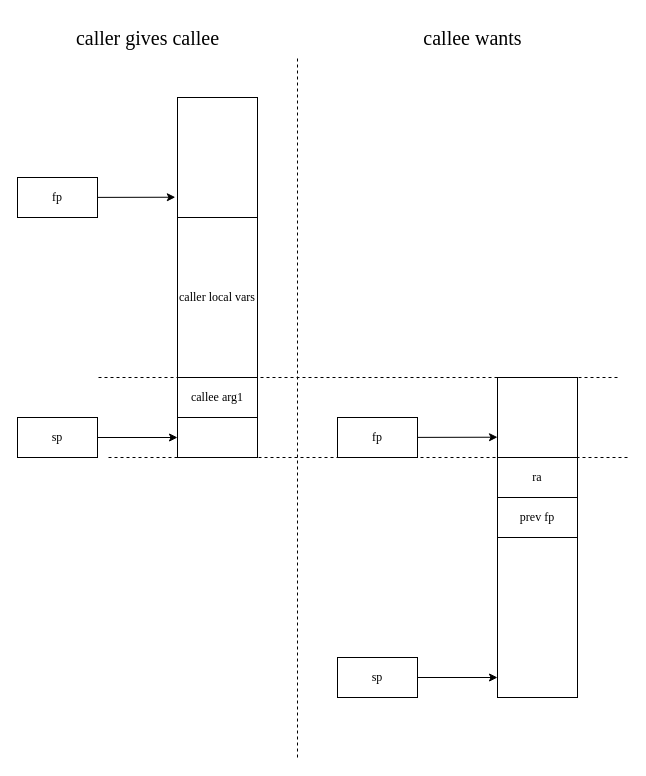
The diagram is 646 pixels wide and 776 high, and some of its shapes have lost their labels. Here are the shapes that lost their labels. From the top down, the centre of each, then its label:
At point (217, 157): "caller args".
At point (217, 437): "callee arg0".
At point (537, 417): "callee args".
At point (537, 617): "callee local vars".
